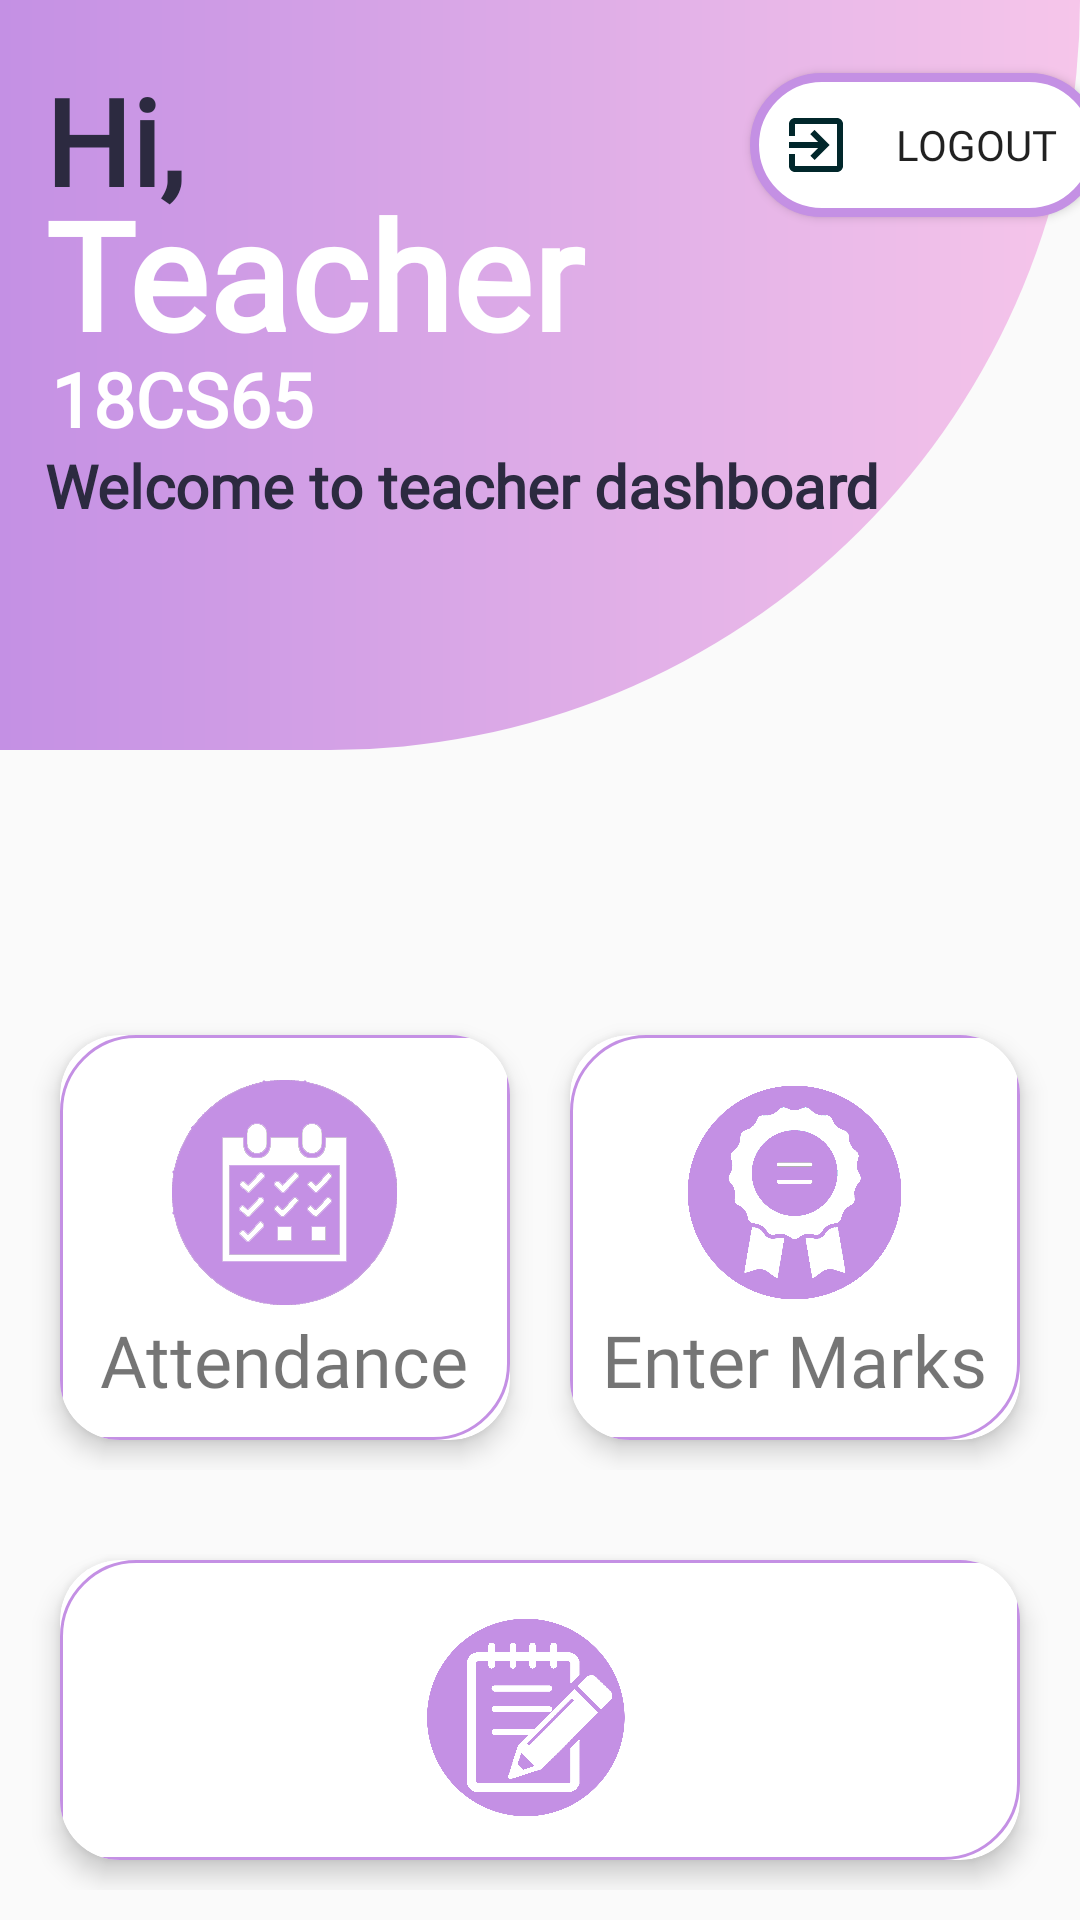

Icons on this 1080 × 1920 Android screen, each with the point to tap as point (x, y):
score card: point (794, 1192)
